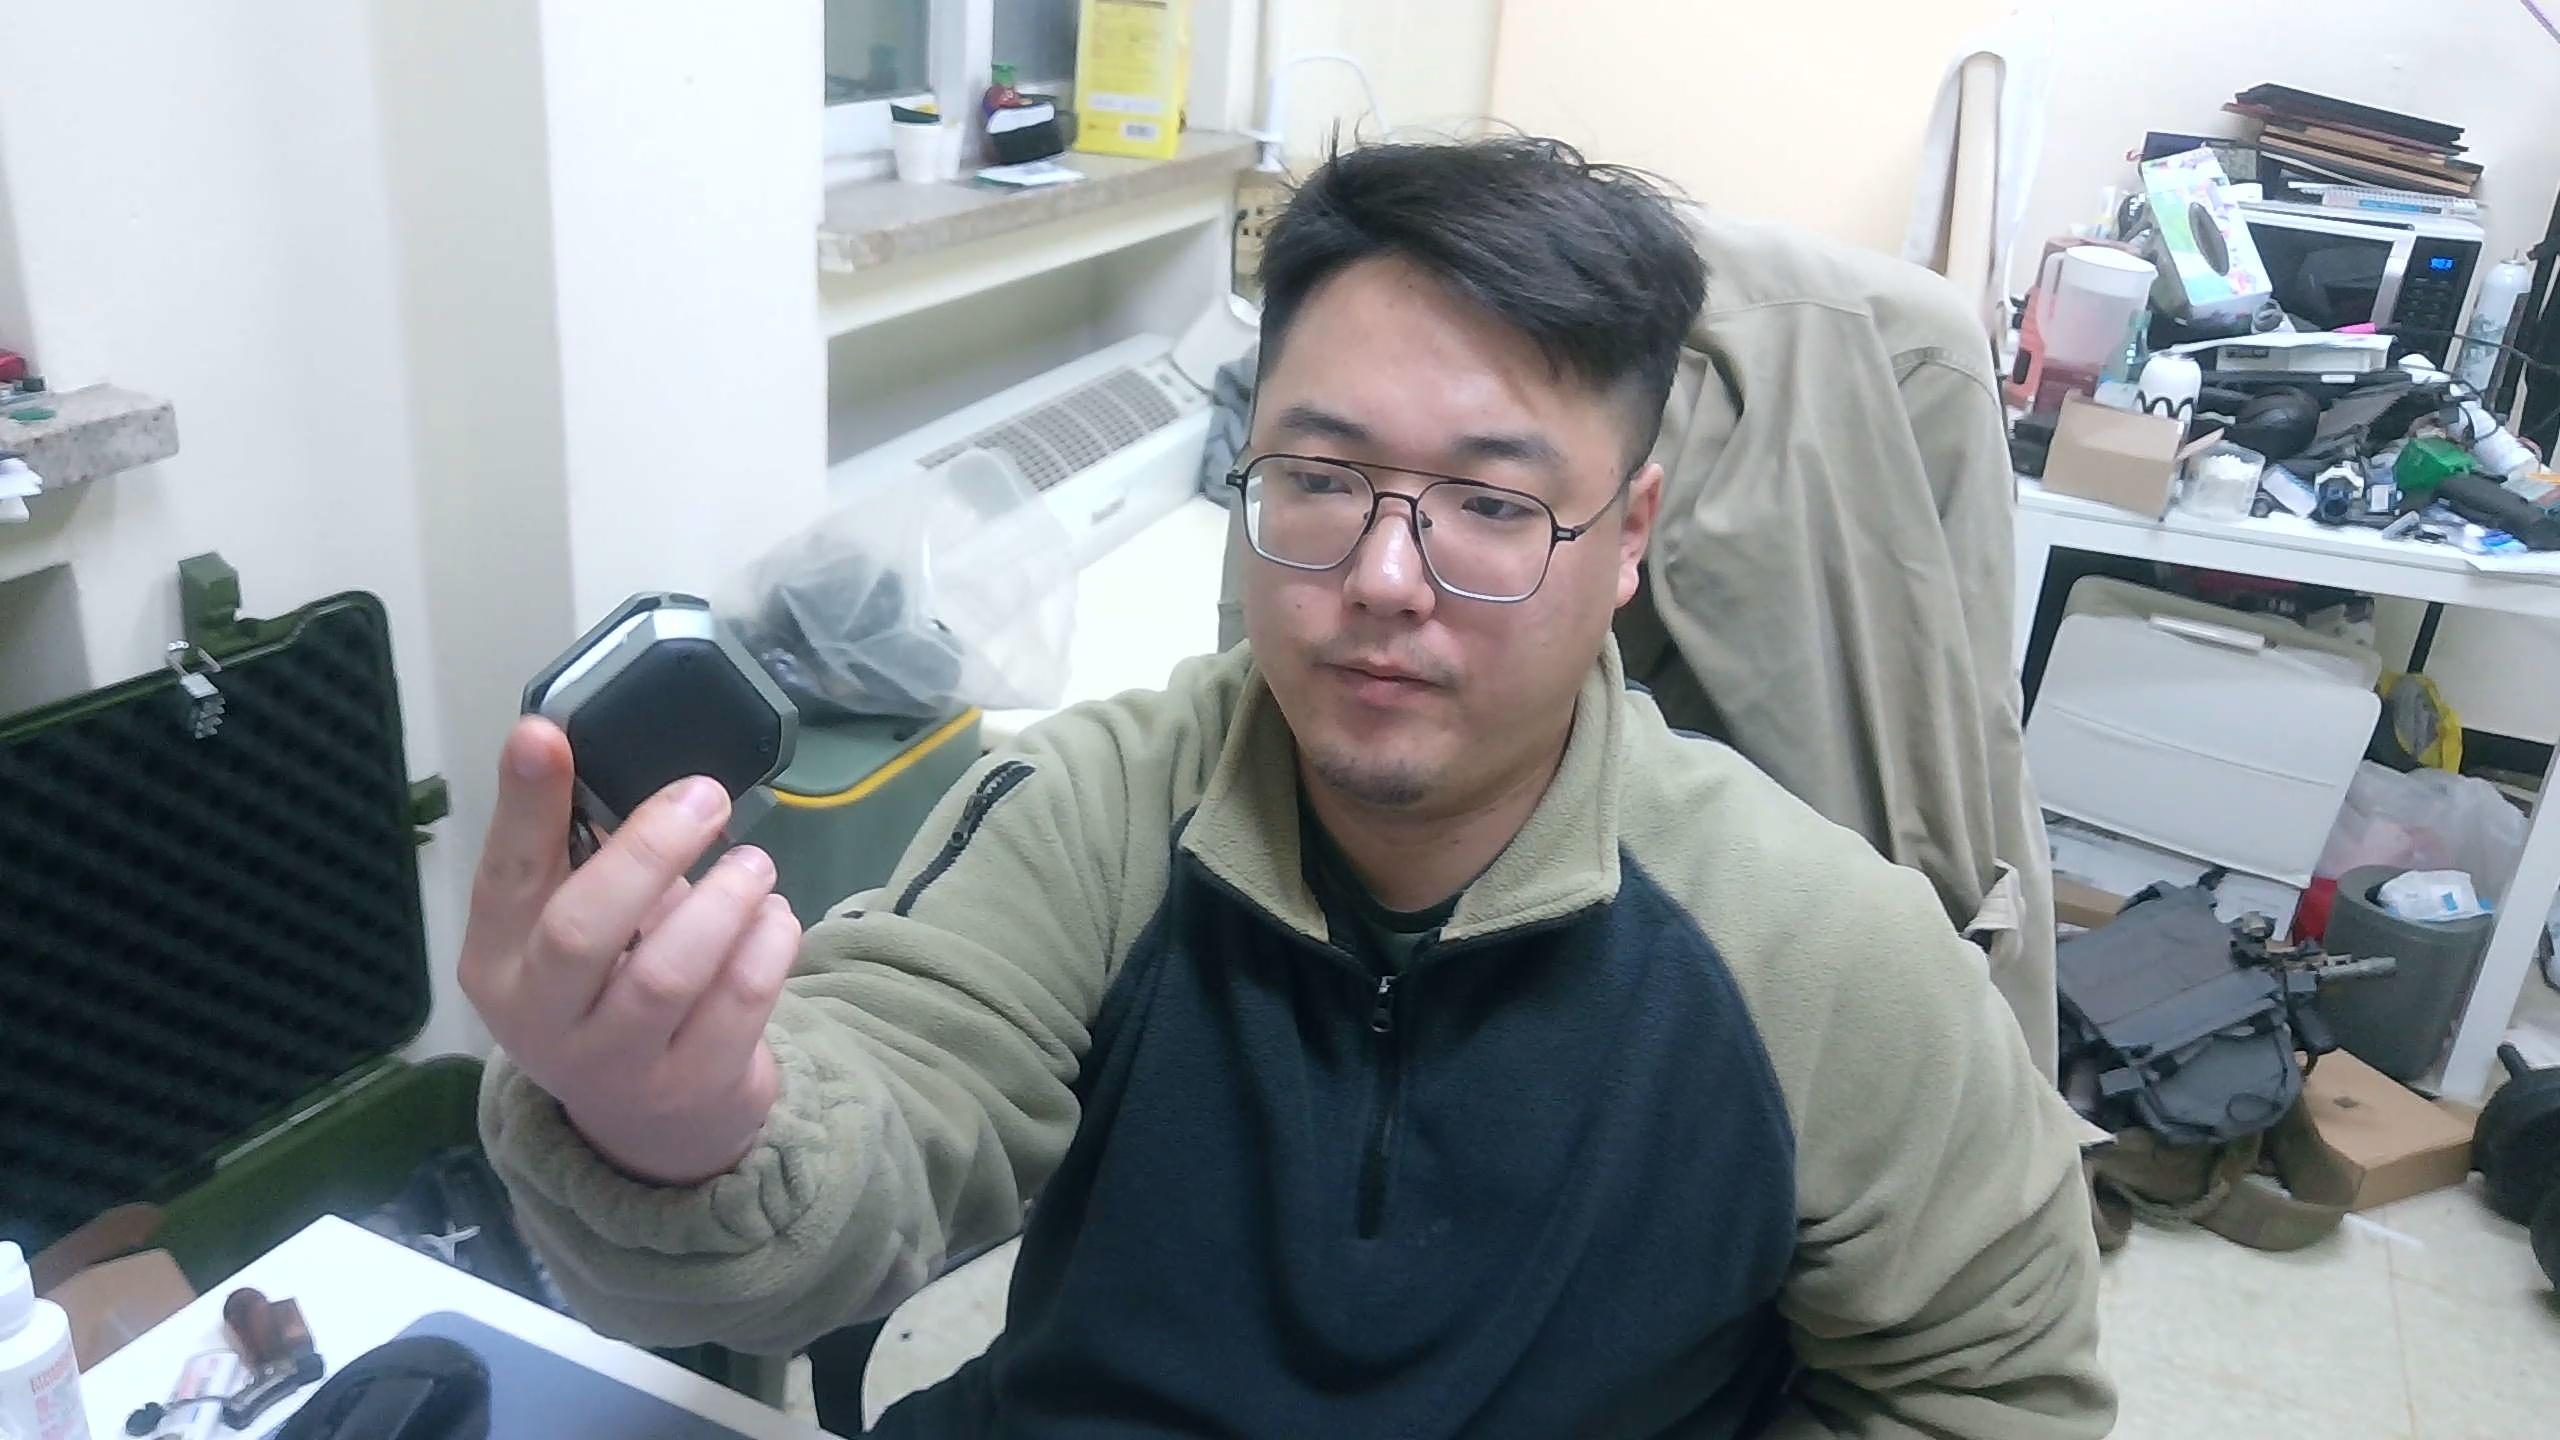blue_pliers: (520, 587, 805, 890)
